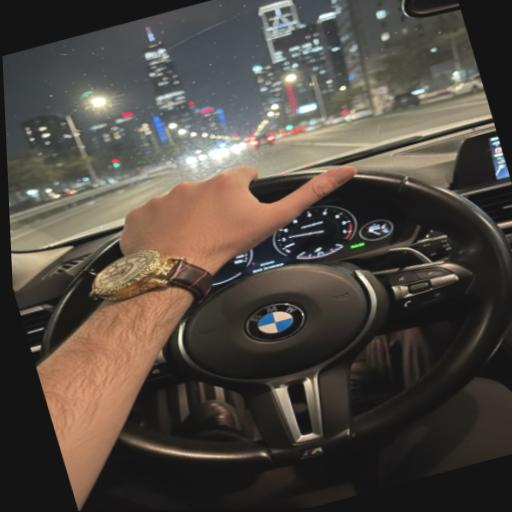Hands-on-the-Wheel: (47, 115, 403, 320)
